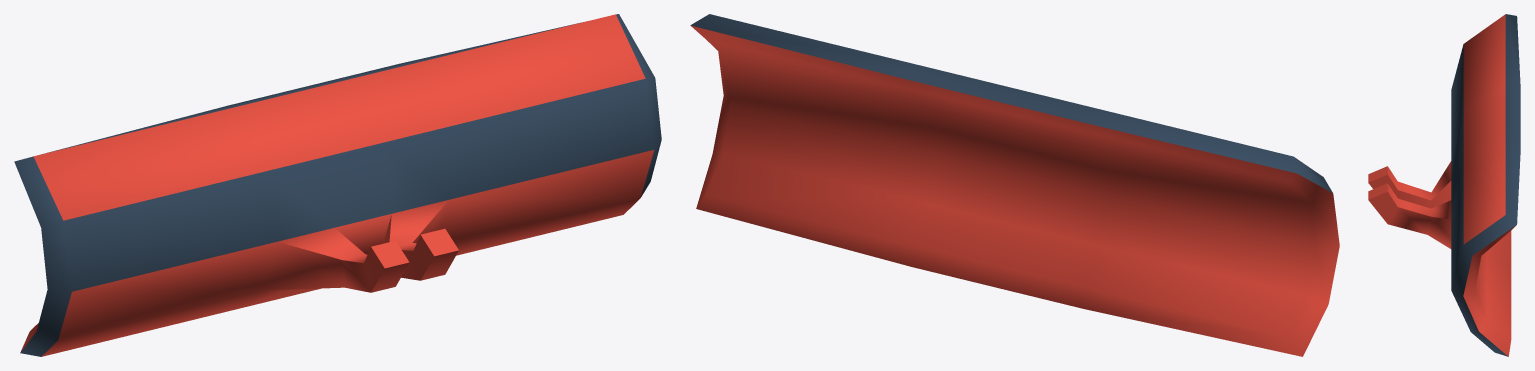
The model's file is kürümedeğilküreme.fbx.
3 renders of one model, left to right at view 1: azimuth 30°, elevation 25°; view 2: azimuth 150°, elevation 25°; view 3: azimuth 270°, elevation 25°, orthographic. The views are drawn at different scales.
Parts seen in each view (by area): view 1: Cube.001; view 2: Cube.001; view 3: Cube.001.
Part boxes in pixels (box(x1,y1,x2,y2)): Cube.001: box(14, 14, 661, 356); Cube.001: box(690, 14, 1339, 356); Cube.001: box(1368, 14, 1520, 356).
Bounding box in the file's own units: 5.85 × 1.82 × 1.78.
1 material, 1 textured.
